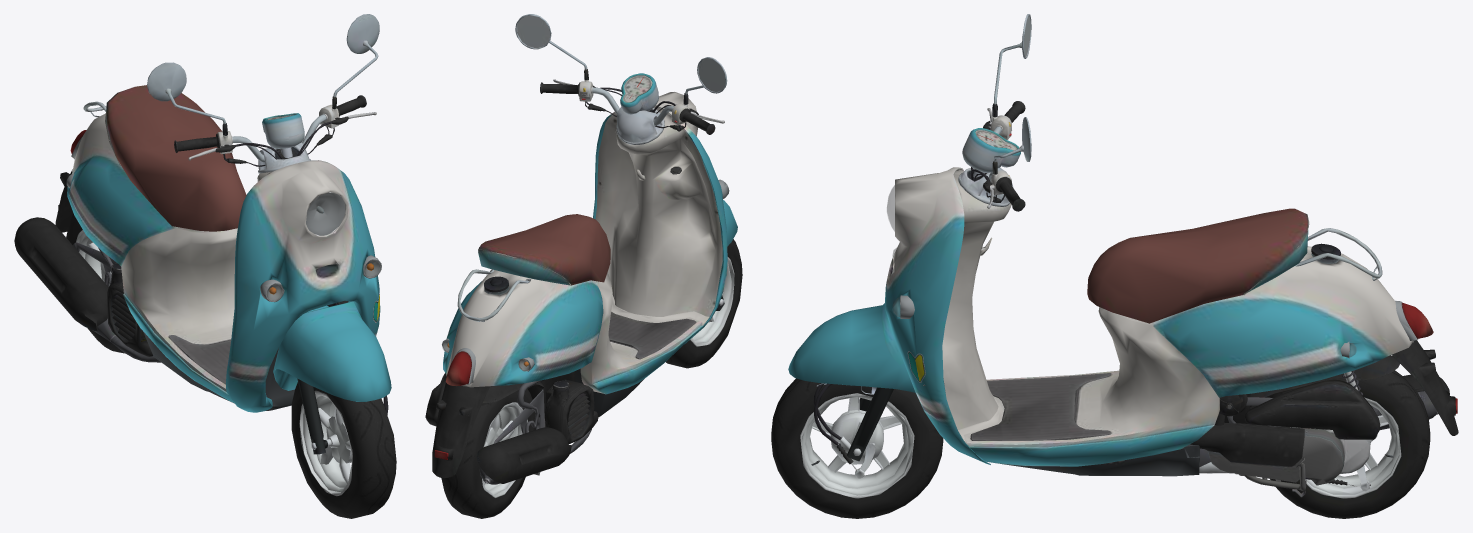
Rendered from scooter.glb.
3 renders of one model, left to right at view 1: azimuth 30°, elevation 25°; view 2: azimuth 150°, elevation 25°; view 3: azimuth 270°, elevation 25°, orthographic. The views are drawn at different scales.
Visible parts, largest first — view 1: Plane003_Main Body_0, Sphere001_Tire_0, Sphere001_Main Body_0, Plane003_SmallParts_0, Sphere001_SmallParts_0, Plane003_Lamp & Glass_0, Plane003_Glass_0, Plane003_Tire_0; view 2: Plane003_Main Body_0, Plane003_SmallParts_0, Sphere001_SmallParts_0, Plane003_Tire_0, Sphere001_Tire_0, Plane003_Lamp & Glass_0, Sphere001_Glass_0, Sphere001_Main Body_0; view 3: Plane003_Main Body_0, Plane003_SmallParts_0, Sphere001_Tire_0, Plane003_Tire_0, Sphere001_Main Body_0, Sphere001_SmallParts_0, Plane003_Lamp & Glass_0.
Boxes of the visible parts, x1=… form: Plane003_Main Body_0: x1=67, y1=85, x2=380, y2=412; Sphere001_Tire_0: x1=291, y1=382, x2=396, y2=518; Sphere001_Main Body_0: x1=273, y1=300, x2=391, y2=454; Plane003_SmallParts_0: x1=14, y1=101, x2=160, y2=362; Sphere001_SmallParts_0: x1=147, y1=14, x2=388, y2=449; Plane003_Lamp & Glass_0: x1=66, y1=130, x2=381, y2=302; Plane003_Glass_0: x1=267, y1=192, x2=380, y2=301; Plane003_Tire_0: x1=66, y1=214, x2=124, y2=353; Plane003_Main Body_0: x1=443, y1=92, x2=727, y2=417; Plane003_SmallParts_0: x1=425, y1=269, x2=598, y2=484; Sphere001_SmallParts_0: x1=515, y1=14, x2=727, y2=305; Plane003_Tire_0: x1=441, y1=389, x2=536, y2=518; Sphere001_Tire_0: x1=666, y1=239, x2=742, y2=368; Plane003_Lamp & Glass_0: x1=434, y1=179, x2=729, y2=459; Sphere001_Glass_0: x1=623, y1=75, x2=651, y2=102; Sphere001_Main Body_0: x1=716, y1=200, x2=737, y2=310; Plane003_Main Body_0: x1=885, y1=167, x2=1413, y2=476; Plane003_SmallParts_0: x1=1190, y1=228, x2=1458, y2=497; Sphere001_Tire_0: x1=771, y1=378, x2=943, y2=518; Plane003_Tire_0: x1=1268, y1=370, x2=1430, y2=518; Sphere001_Main Body_0: x1=788, y1=303, x2=915, y2=461; Sphere001_SmallParts_0: x1=813, y1=14, x2=1031, y2=478; Plane003_Lamp & Glass_0: x1=900, y1=295, x2=1457, y2=413.
Size of the model in its own units: 0.6794 by 1.16 by 1.61.
6 materials, 6 textured.
